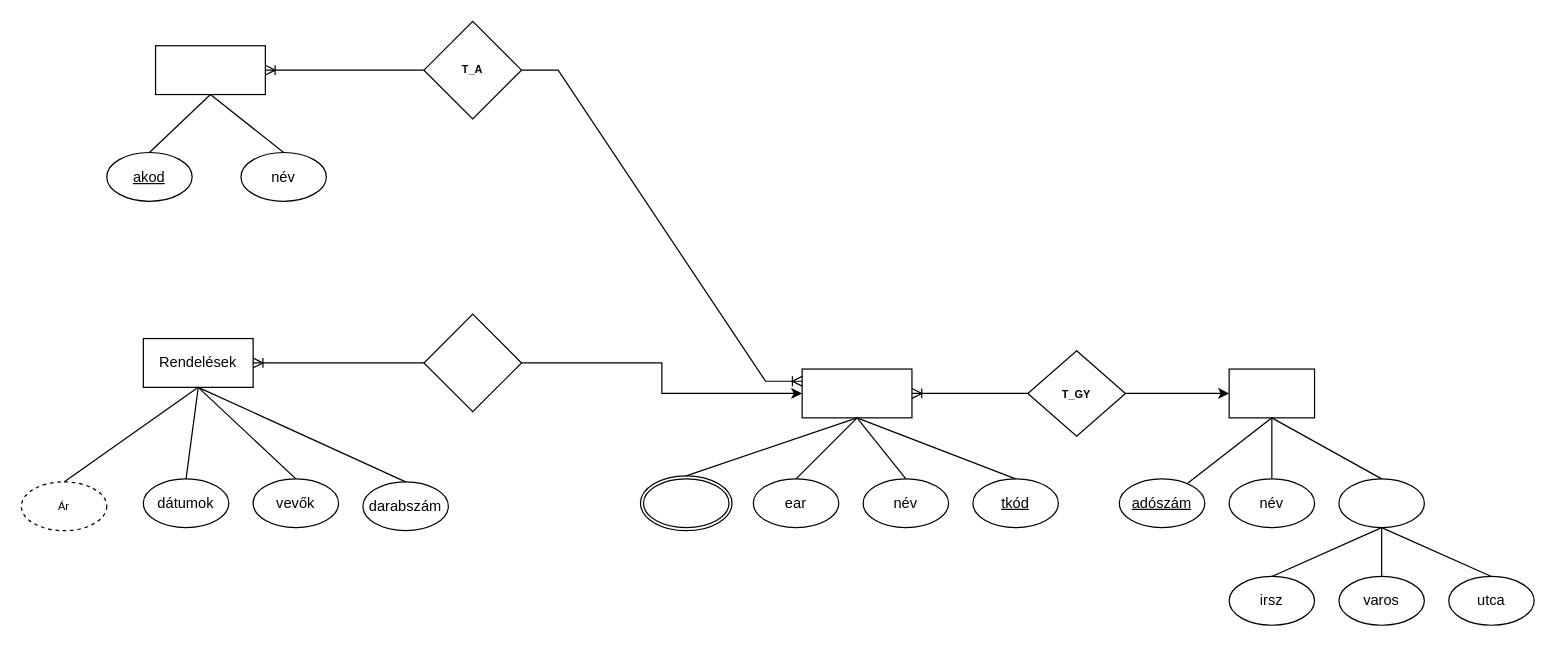
Some shapes in this 1556 by 647 pixel diagram are drawn without their labels. The centre of each missing label's shape, as x and y in pixels:
"Alakatrész" goes at (209,70).
"darabszam" goes at (685,503).
"Gyártó" goes at (1271,393).
"T_R" goes at (472,362).
"telephely" goes at (1381,503).
"Termék" goes at (856,393).
